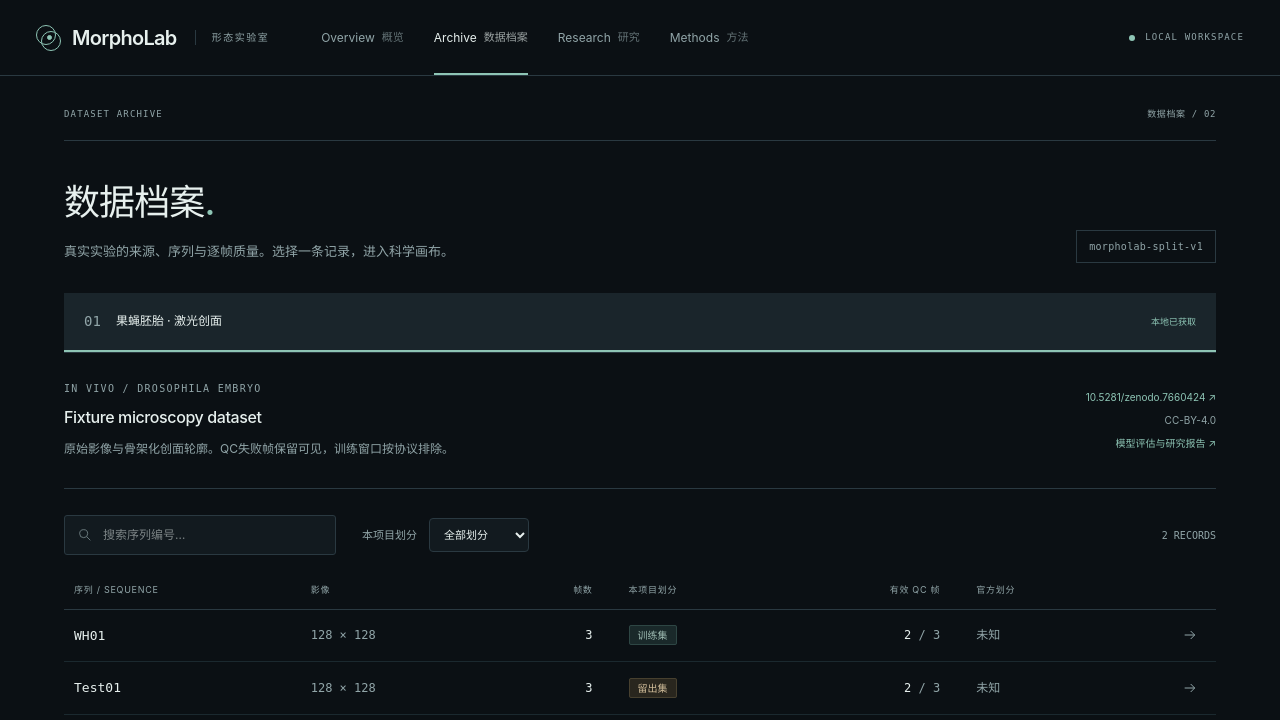
Test: archive component workflow › filters real metadata records by search and project split, then restores empty search
Check: the link "WH01" is shown, box [74,628,105,643]
Select "留出集" in the dropdown labelled "本项目划分" at (479, 535), box [429,518,529,552]
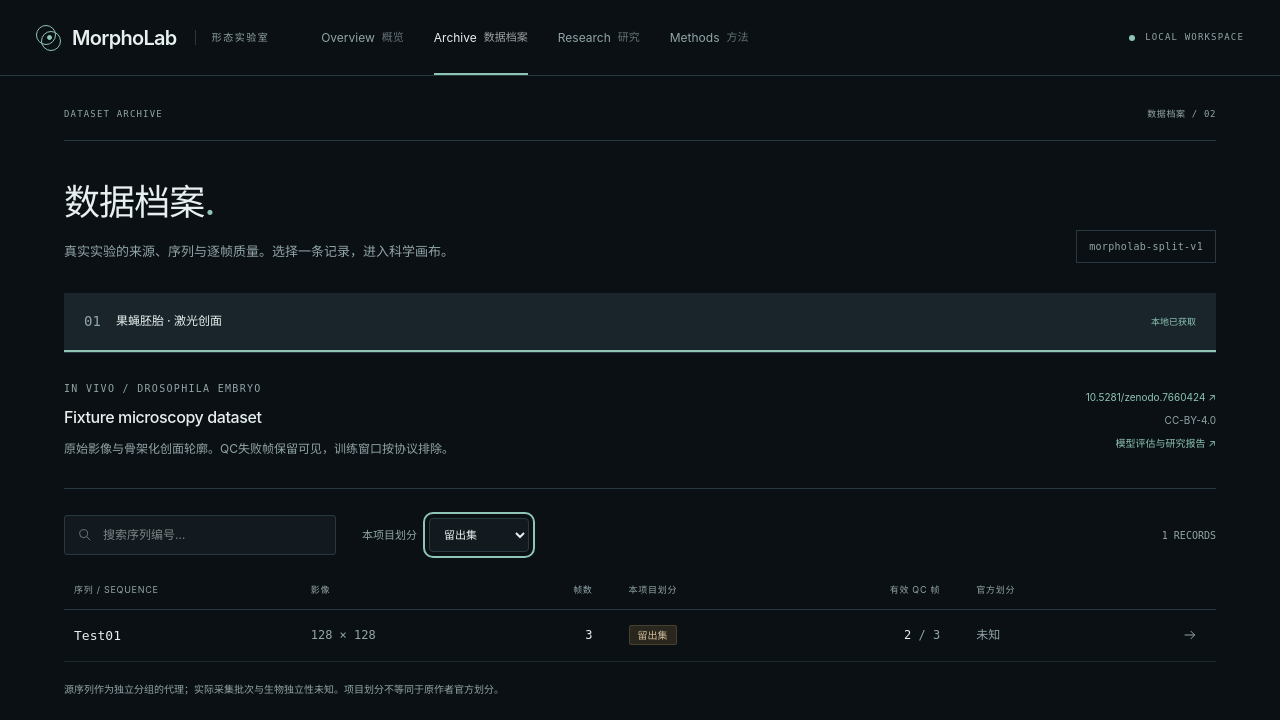
Check: the link "Test01" is shown, box [74,628,121,643]
Check: the link "WH01" is gone
Type "missing" into the field labelled "搜索序列" at (213, 535), box [103,516,323,554]
(page scrolled)
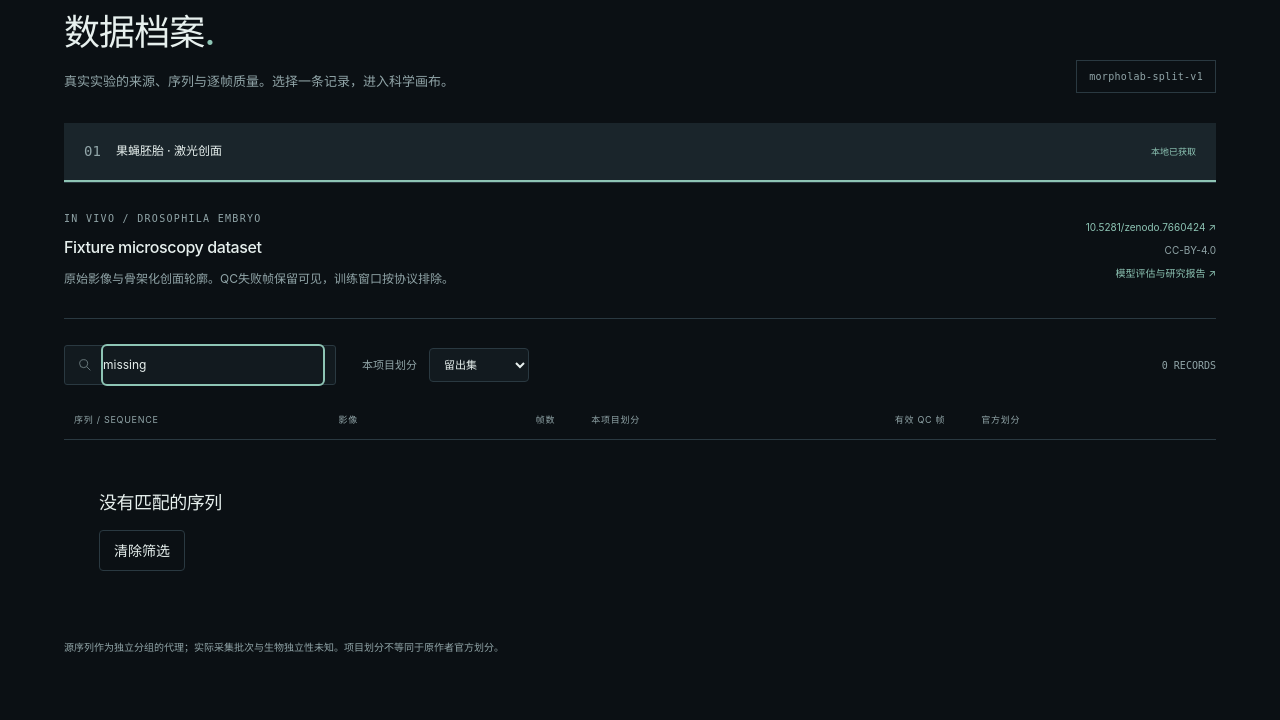
Check: the heading "没有匹配的序列" is shown, box [99,489,222,516]
Click the button "清除筛选" at (142, 550), box [99,530,185,571]
(page scrolled)
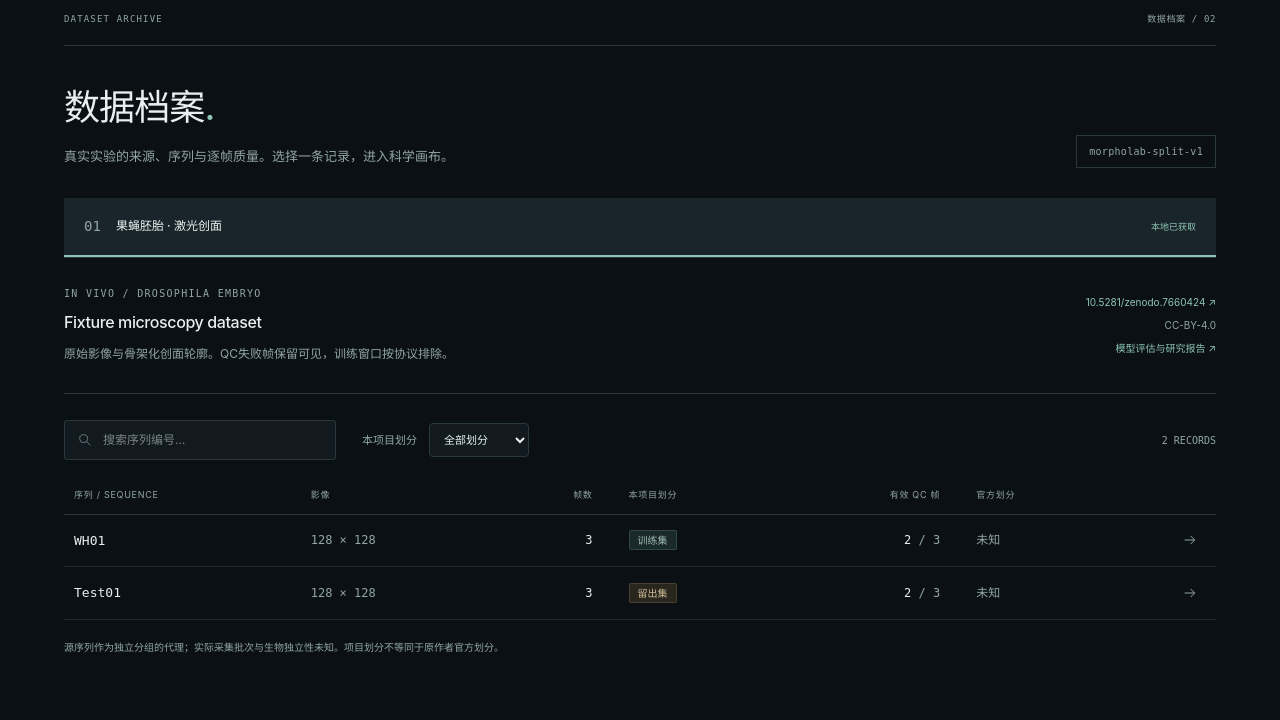
Check: the link "WH01" is shown, box [74,533,105,548]
Check: the text "未知" is shown 2 times, box [958,514,1110,567]; [958,567,1110,619]
